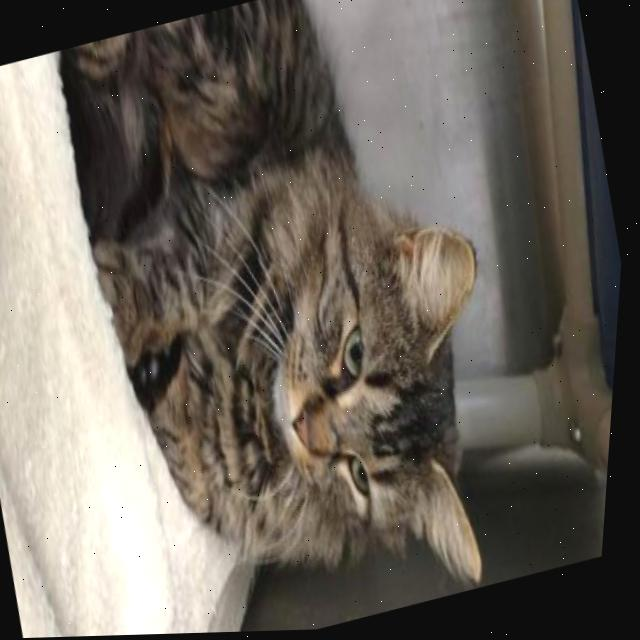Maine Coon: (23, 0, 575, 639)
